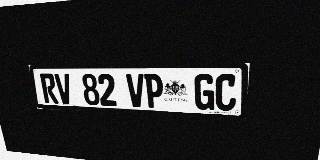2: (97, 74, 117, 106)
8: (81, 74, 100, 105)
C: (215, 74, 237, 111)
G: (194, 74, 215, 110)
P: (144, 74, 164, 108)
R: (39, 73, 59, 104)
V: (126, 74, 145, 107), (54, 73, 73, 104)
